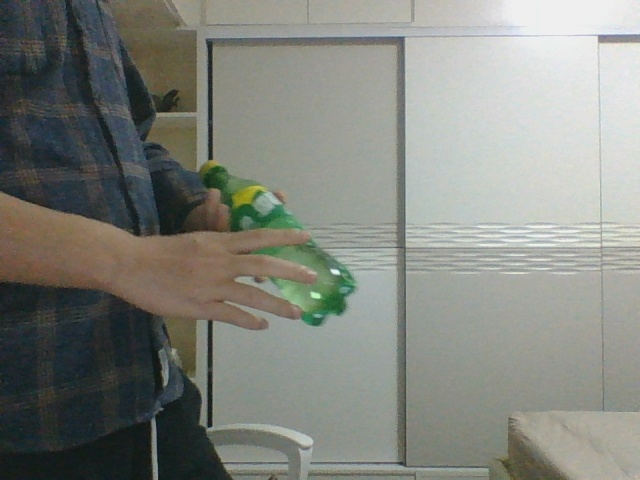Sprite: (198, 159, 356, 325)
